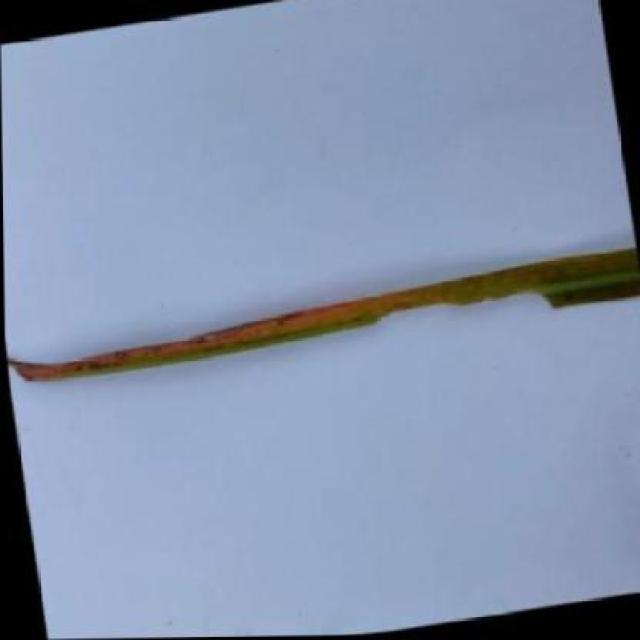Rice False Smut: (3, 246, 640, 385)
